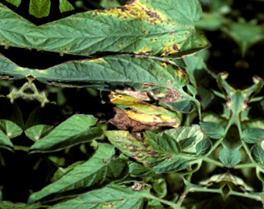Tomato leaf bacterial spot: (38, 0, 217, 73), (31, 42, 197, 110), (95, 127, 201, 177), (30, 169, 154, 209)
